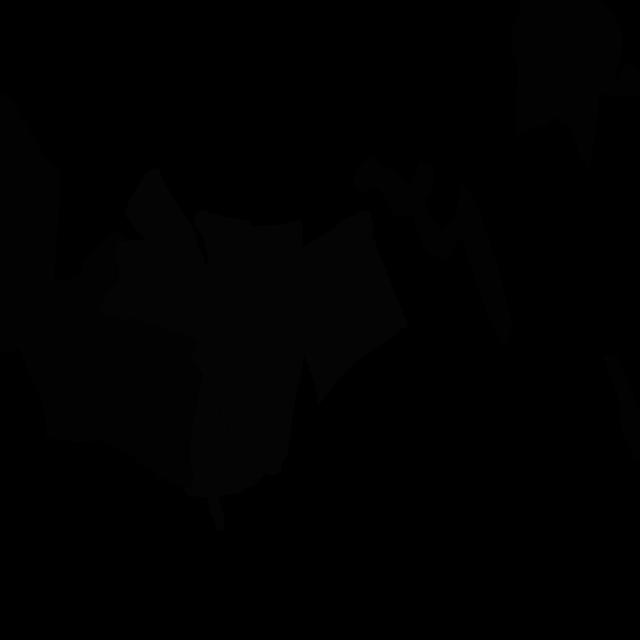cardboard: (15, 312, 201, 487), (353, 156, 513, 346), (512, 0, 640, 172), (0, 92, 60, 352), (46, 231, 131, 313), (604, 353, 640, 461)
soft_plastic: (190, 209, 304, 476), (302, 210, 409, 406), (98, 168, 214, 340), (183, 374, 265, 531)
